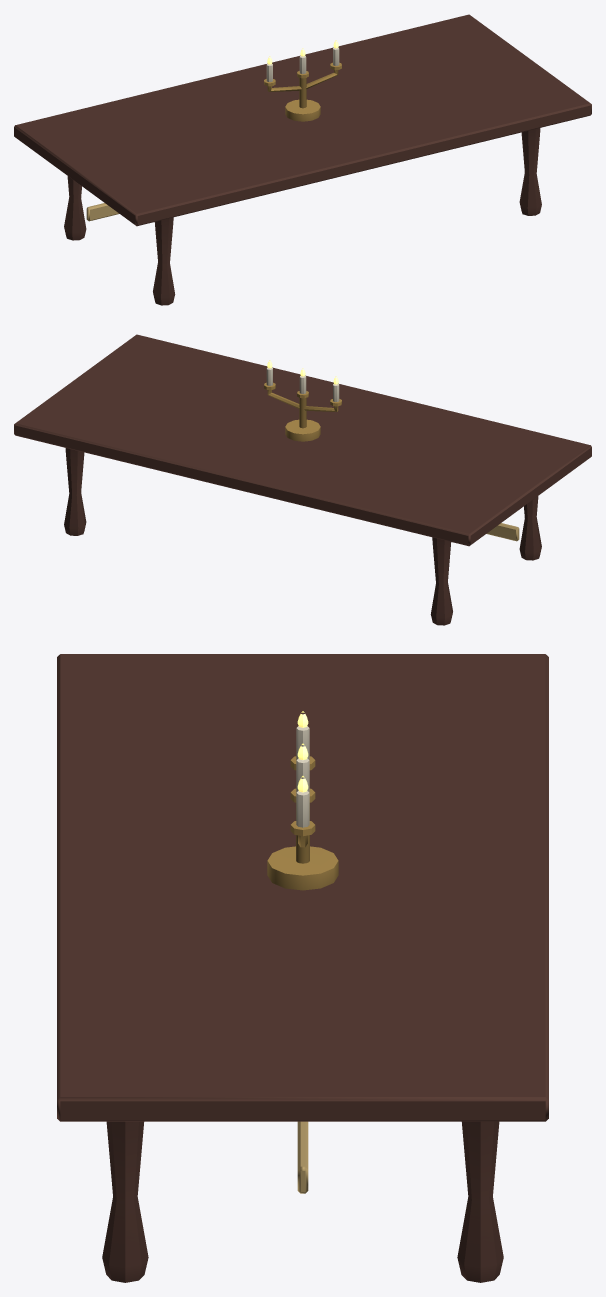
Rendered from table_banquet.glb.
3 renders of one model, top to bottom at view 1: azimuth 30°, elevation 25°; view 2: azimuth 150°, elevation 25°; view 3: azimuth 270°, elevation 25°, orthographic. The views are drawn at different scales.
Parts seen in each view (by area): view 1: table_banquet; view 2: table_banquet; view 3: table_banquet.
Boxes of the visible parts, x1,y1,x2,y2 form: table_banquet: (14, 14, 591, 305); table_banquet: (14, 334, 591, 625); table_banquet: (57, 654, 548, 1282).
Size of the model in its own units: 3.86 by 1.43 by 1.8.
